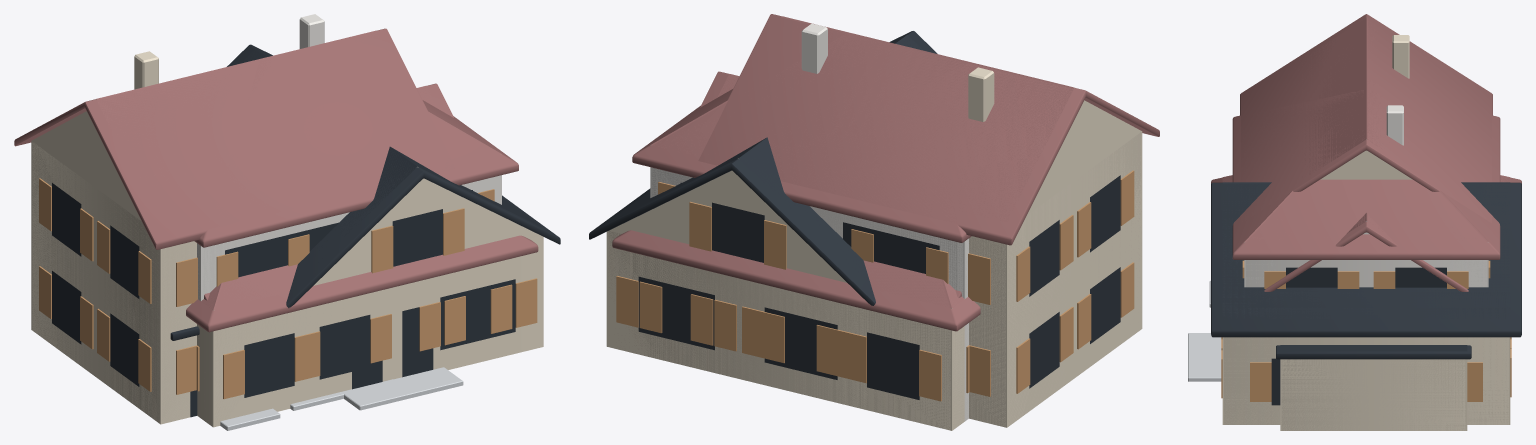
File: ENV_VILLA_KIT_A_v001.glb
3 views of the same model, side by side, from view 1: azimuth 30°, elevation 25°; view 2: azimuth 150°, elevation 25°; view 3: azimuth 270°, elevation 25° (orthographic). The views are drawn at different scales.
Parts seen in each view (by area): view 1: ENV_VILLA_KIT_A_VILLA_C, ENV_VILLA_KIT_A_VILLA_E, ENV_VILLA_KIT_A_VILLA_B, ENV_VILLA_KIT_A_VILLA_C_LOW, ENV_VILLA_KIT_A_VILLA_B_LOW, ENV_VILLA_KIT_A_VILLA_D, ENV_VILLA_KIT_A_VILLA_E_LOW, ENV_VILLA_KIT_A_VILLA_F, ENV_VILLA_KIT_A_VILLA_D_LOW, ENV_VILLA_KIT_A_VILLA_A, ENV_VILLA_KIT_A_VILLA_F_LOW; view 2: ENV_VILLA_KIT_A_VILLA_C, ENV_VILLA_KIT_A_VILLA_B, ENV_VILLA_KIT_A_VILLA_C_LOW, ENV_VILLA_KIT_A_VILLA_E, ENV_VILLA_KIT_A_VILLA_D, ENV_VILLA_KIT_A_VILLA_B_LOW, ENV_VILLA_KIT_A_VILLA_E_LOW, ENV_VILLA_KIT_A_VILLA_D_LOW, ENV_VILLA_KIT_A_VILLA_F, ENV_VILLA_KIT_A_VILLA_F_LOW; view 3: ENV_VILLA_KIT_A_VILLA_C, ENV_VILLA_KIT_A_VILLA_E, ENV_VILLA_KIT_A_VILLA_D, ENV_VILLA_KIT_A_VILLA_C_LOW, ENV_VILLA_KIT_A_VILLA_E_LOW, ENV_VILLA_KIT_A_VILLA_A, ENV_VILLA_KIT_A_VILLA_B, ENV_VILLA_KIT_A_VILLA_D_LOW.
Boxes of the visible parts, box(x1,y1,x2,y2) form: ENV_VILLA_KIT_A_VILLA_C: box(14, 28, 455, 423); ENV_VILLA_KIT_A_VILLA_E: box(170, 44, 560, 417); ENV_VILLA_KIT_A_VILLA_B: box(186, 235, 538, 426); ENV_VILLA_KIT_A_VILLA_C_LOW: box(31, 30, 377, 424); ENV_VILLA_KIT_A_VILLA_B_LOW: box(201, 235, 521, 427); ENV_VILLA_KIT_A_VILLA_D: box(194, 14, 518, 399); ENV_VILLA_KIT_A_VILLA_E_LOW: box(174, 48, 543, 411); ENV_VILLA_KIT_A_VILLA_F: box(197, 213, 346, 430); ENV_VILLA_KIT_A_VILLA_D_LOW: box(208, 46, 501, 292); ENV_VILLA_KIT_A_VILLA_A: box(204, 83, 453, 403); ENV_VILLA_KIT_A_VILLA_F_LOW: box(197, 213, 348, 300); ENV_VILLA_KIT_A_VILLA_C: box(698, 14, 1159, 427); ENV_VILLA_KIT_A_VILLA_B: box(612, 230, 980, 430); ENV_VILLA_KIT_A_VILLA_C_LOW: box(781, 16, 1142, 427); ENV_VILLA_KIT_A_VILLA_E: box(589, 31, 937, 410); ENV_VILLA_KIT_A_VILLA_D: box(632, 23, 971, 289); ENV_VILLA_KIT_A_VILLA_B_LOW: box(630, 230, 964, 430); ENV_VILLA_KIT_A_VILLA_E_LOW: box(606, 35, 923, 352); ENV_VILLA_KIT_A_VILLA_D_LOW: box(650, 35, 957, 290); ENV_VILLA_KIT_A_VILLA_F: box(813, 208, 968, 419); ENV_VILLA_KIT_A_VILLA_F_LOW: box(819, 210, 968, 421); ENV_VILLA_KIT_A_VILLA_C: box(1240, 14, 1492, 430); ENV_VILLA_KIT_A_VILLA_E: box(1188, 182, 1521, 424); ENV_VILLA_KIT_A_VILLA_D: box(1210, 90, 1500, 354); ENV_VILLA_KIT_A_VILLA_C_LOW: box(1280, 18, 1467, 430); ENV_VILLA_KIT_A_VILLA_E_LOW: box(1222, 182, 1510, 424); ENV_VILLA_KIT_A_VILLA_A: box(1203, 214, 1468, 354); ENV_VILLA_KIT_A_VILLA_B: box(1188, 176, 1521, 355); ENV_VILLA_KIT_A_VILLA_D_LOW: box(1244, 91, 1488, 287).
Size of the model in its own units: 14.15 by 10.65 by 11.6.
